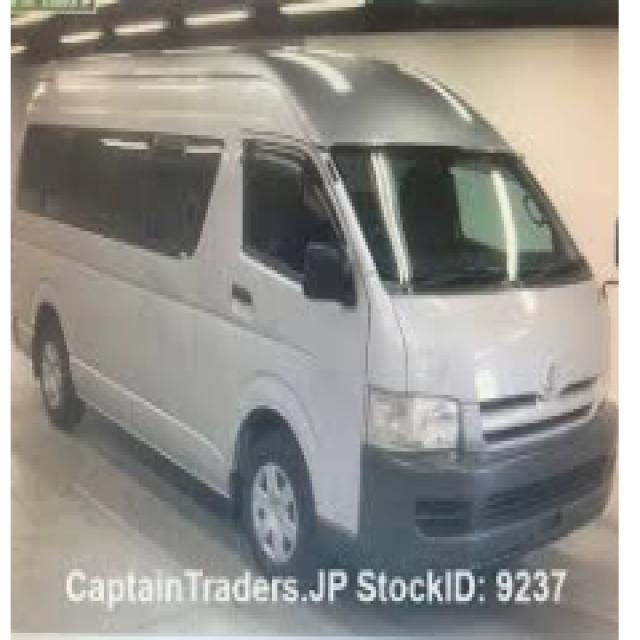Van: (10, 39, 619, 584)
